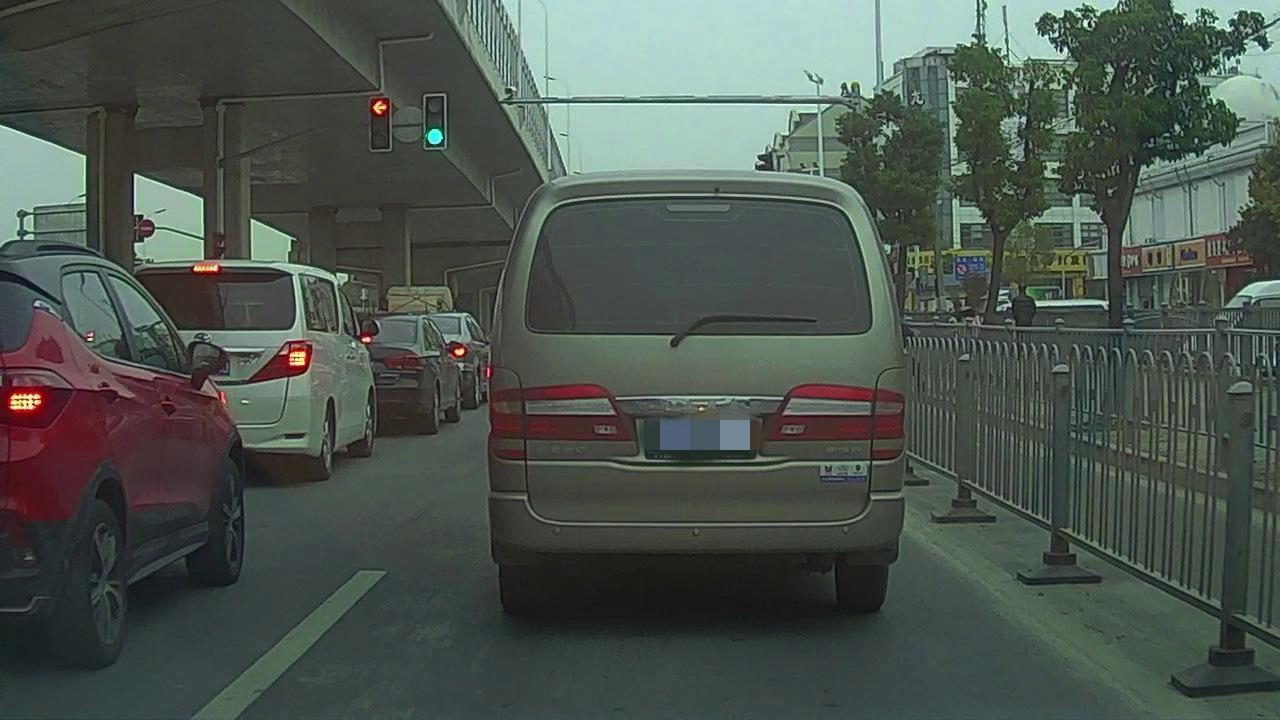traffic_light: (367, 97, 389, 150), (425, 96, 444, 144)
